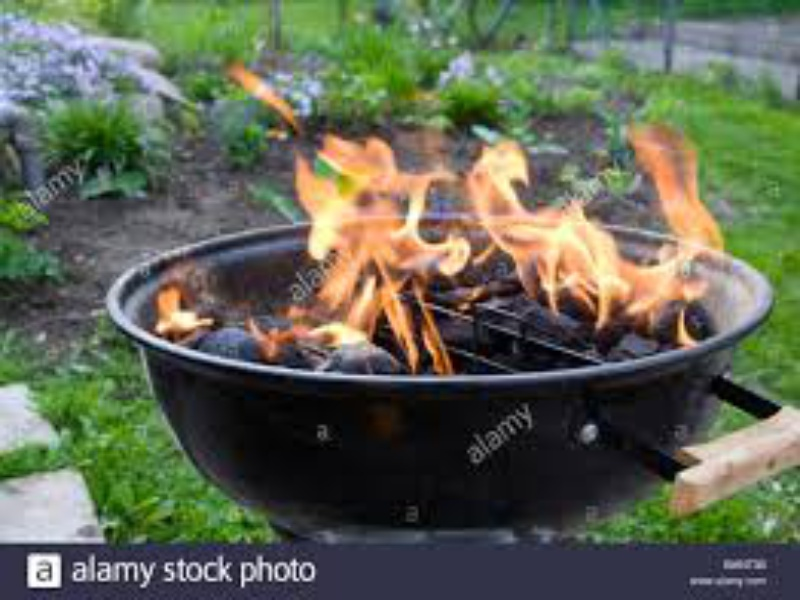fire: (222, 45, 729, 373), (145, 281, 217, 335)
